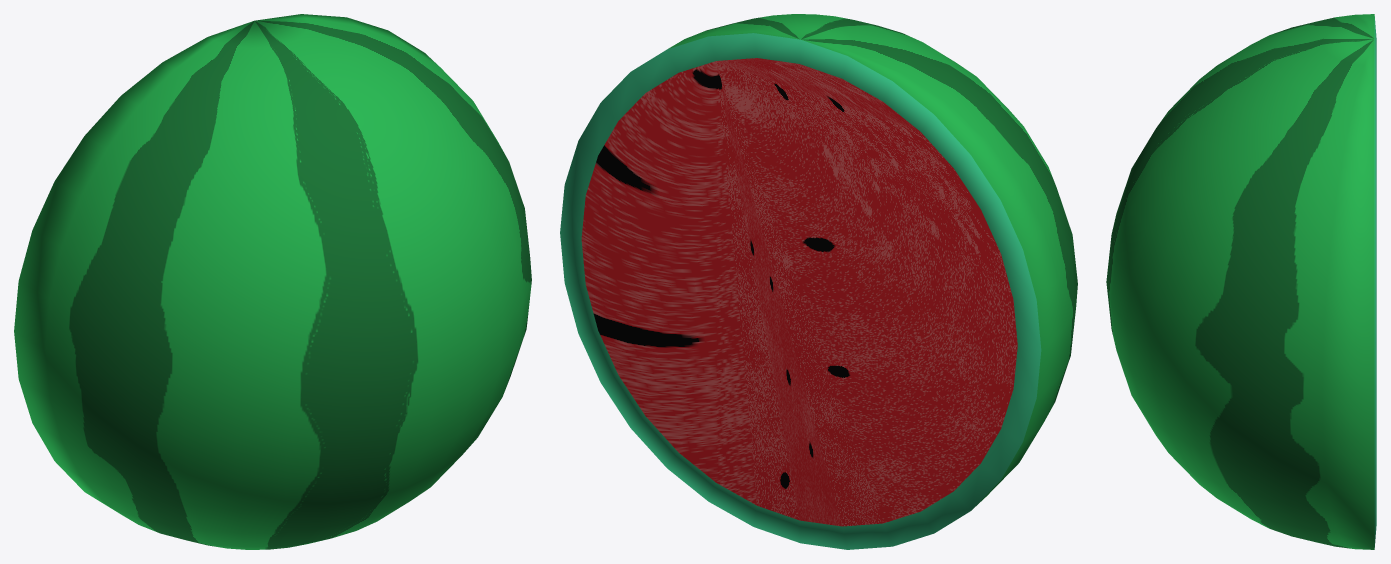
Rendered from slice1112.fbx.
The picture shows the model from 3 angles, left to right: view 1: azimuth 30°, elevation 25°; view 2: azimuth 150°, elevation 25°; view 3: azimuth 270°, elevation 25°; orthographic projection. The views are drawn at different scales.
Parts seen in each view (by area): view 1: Sphere; view 2: Sphere; view 3: Sphere.
Part boxes in pixels (x1,y1,x2,y2): Sphere: (14, 14, 531, 549); Sphere: (560, 14, 1077, 549); Sphere: (1106, 14, 1376, 549).
Bounding box in the file's own units: 200 × 200 × 101.
